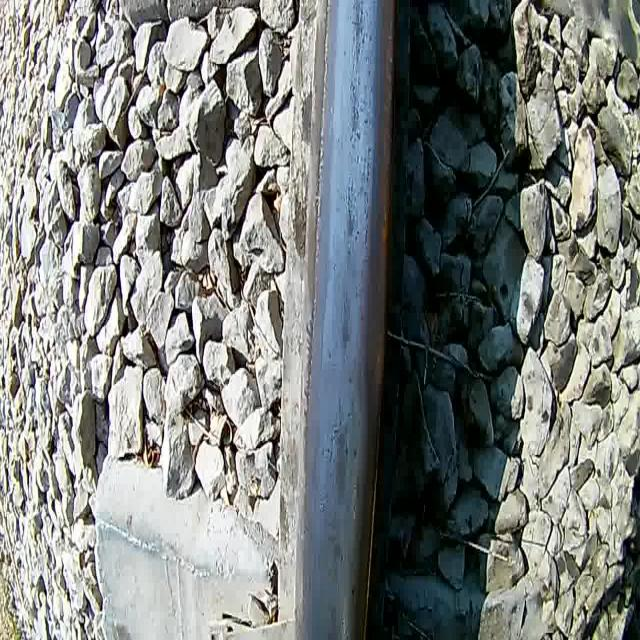Cracks: (363, 139, 373, 255), (327, 392, 342, 469), (348, 77, 360, 148), (345, 174, 356, 223), (342, 434, 350, 466)
Squats: (326, 384, 354, 516), (341, 69, 372, 163), (336, 174, 364, 278), (321, 512, 349, 596), (342, 0, 374, 71), (335, 276, 356, 374), (321, 598, 346, 640)
